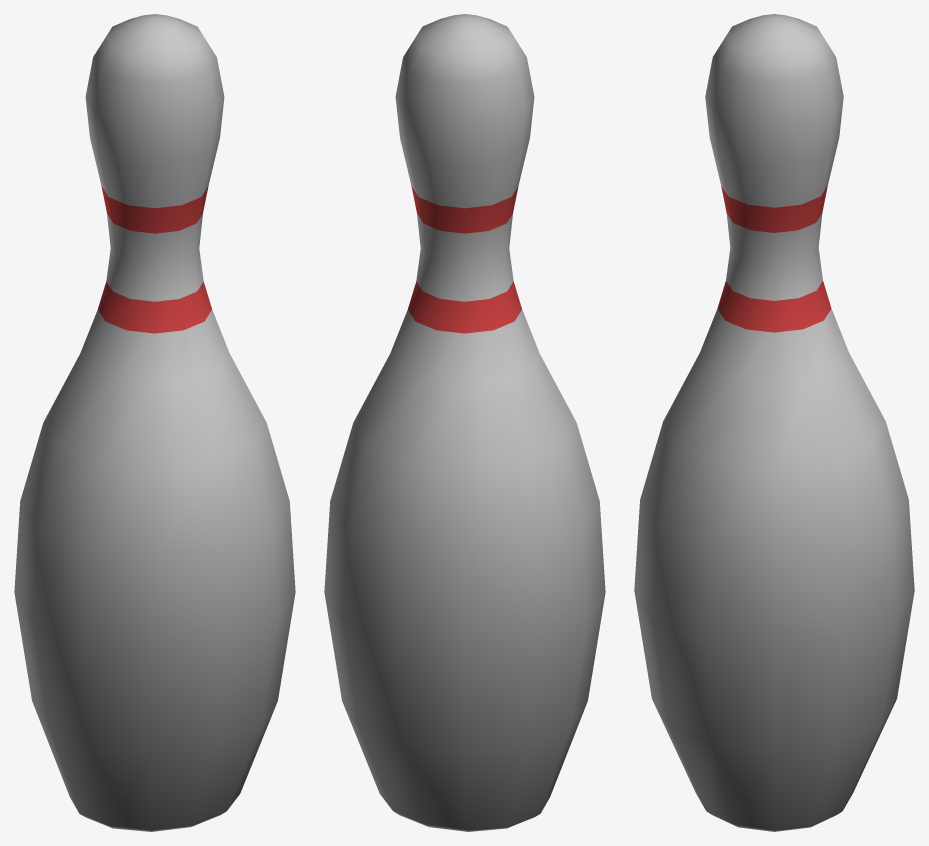
Rendered from human-sports-bowling-pin_v1.fbx.
The picture shows the model from 3 angles, left to right: view 1: azimuth 30°, elevation 25°; view 2: azimuth 150°, elevation 25°; view 3: azimuth 270°, elevation 25°; orthographic projection.
Parts seen in each view (by area): view 1: Bowling Pin; view 2: Bowling Pin; view 3: Bowling Pin.
Boxes of the visible parts, x1,y1,x2,y2 form: Bowling Pin: [14, 14, 295, 831]; Bowling Pin: [324, 14, 605, 831]; Bowling Pin: [634, 14, 914, 831].
Bounding box in the file's own units: 0.1238 × 0.38 × 0.1238.
